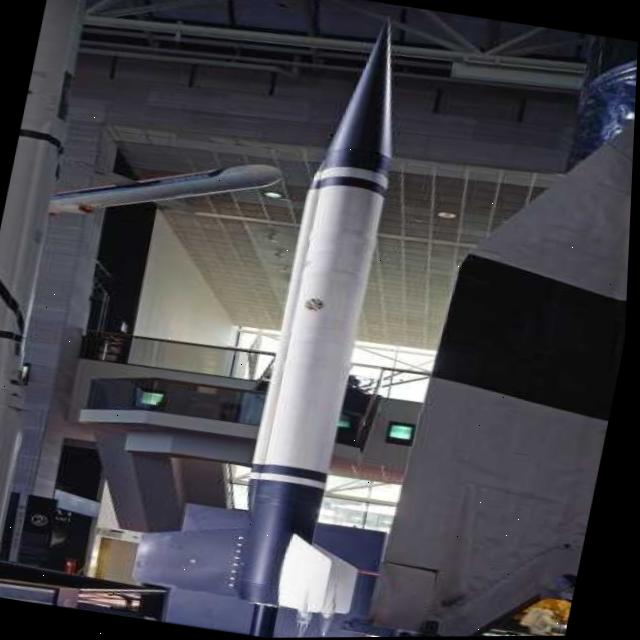missile: (251, 24, 417, 483)
